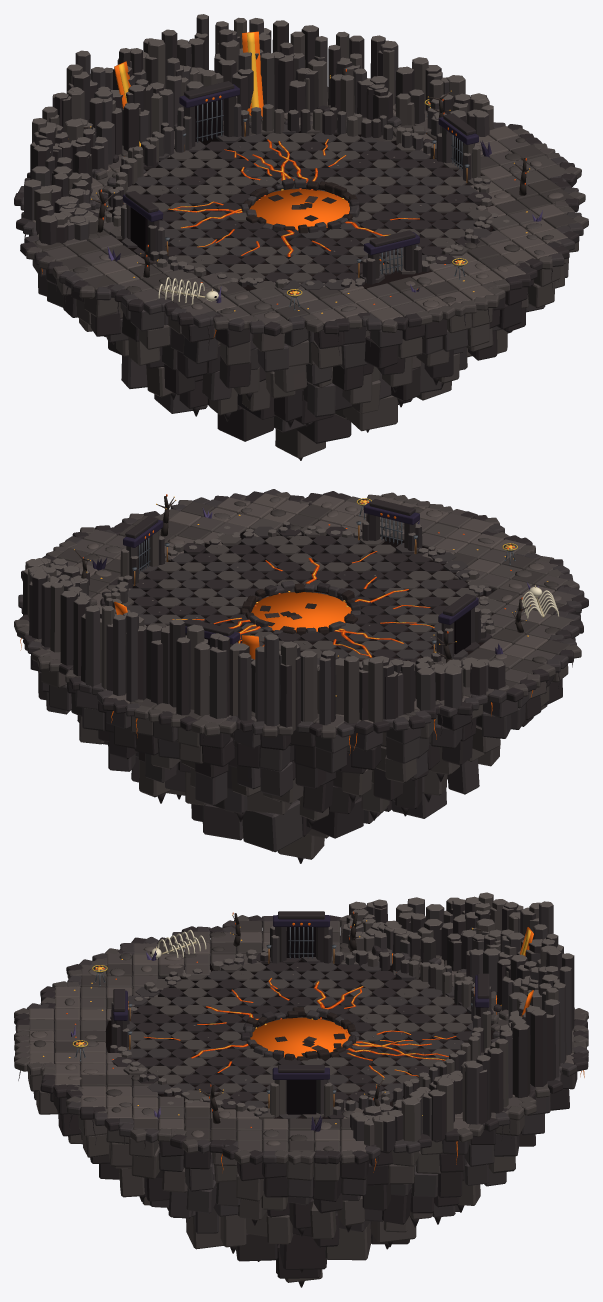
Rendered from arene-volcan.glb.
The picture shows the model from 3 angles, top to bottom: view 1: azimuth 30°, elevation 25°; view 2: azimuth 150°, elevation 25°; view 3: azimuth 270°, elevation 25°; orthographic projection.
Parts seen in each view (by area): view 1: joint, lave_mer, pierre_fond.089, pierre_fond.180, pierre_fond.172, pierre_fond.167, pierre_fond.102, herse_trou, pierre.137, pierre.039, pierre_fond.034, pierre_fond.066 (+17 smaller); view 2: joint, lave_mer, pierre_fond.109, colonne.176, colonne.190, pierre_fond.152, pierre_fond.076, colonne.327, colonne.262, colonne.232, colonne.227, colonne.322 (+53 smaller); view 3: joint, lave_mer, pierre_fond.287, colonne.193, colonne.279, pierre_fond.283, herse_trou.002, pierre_fond.291, colonne.325, colonne.317, pierre_fond.310, herse_trou.001 (+32 smaller).
Part boxes in pixels (x1=…): joint: x1=106, y1=131, x2=493, y2=290; lave_mer: x1=249, y1=189, x2=349, y2=230; pierre_fond.089: x1=217, y1=408, x2=273, y2=441; pierre_fond.180: x1=343, y1=395, x2=397, y2=431; pierre_fond.172: x1=296, y1=414, x2=351, y2=443; pierre_fond.167: x1=275, y1=429, x2=325, y2=458; pierre_fond.102: x1=307, y1=383, x2=335, y2=417; herse_trou: x1=195, y1=99, x2=223, y2=141; pierre.137: x1=364, y1=336, x2=398, y2=368; pierre.039: x1=183, y1=332, x2=218, y2=363; pierre_fond.034: x1=219, y1=356, x2=251, y2=388; pierre_fond.066: x1=274, y1=364, x2=307, y2=392; joint: x1=131, y1=531, x2=495, y2=661; lave_mer: x1=251, y1=592, x2=351, y2=631; pierre_fond.109: x1=242, y1=800, x2=302, y2=852; colonne.176: x1=264, y1=635, x2=279, y2=726; colonne.190: x1=209, y1=647, x2=227, y2=718; pierre_fond.152: x1=202, y1=804, x2=243, y2=840; pierre_fond.076: x1=306, y1=797, x2=363, y2=838; colonne.327: x1=85, y1=607, x2=99, y2=687; colonne.262: x1=176, y1=638, x2=190, y2=715; colonne.232: x1=194, y1=645, x2=210, y2=716; colonne.227: x1=126, y1=613, x2=138, y2=702; colonne.322: x1=113, y1=616, x2=126, y2=695; joint: x1=105, y1=960, x2=494, y2=1120; lave_mer: x1=250, y1=1017, x2=350, y2=1057; pierre_fond.287: x1=279, y1=1234, x2=326, y2=1269; colonne.193: x1=513, y1=1024, x2=530, y2=1097; colonne.279: x1=530, y1=1010, x2=546, y2=1086; pierre_fond.283: x1=325, y1=1222, x2=371, y2=1260; herse_trou.002: x1=286, y1=1080, x2=316, y2=1114; pierre_fond.291: x1=236, y1=1233, x2=277, y2=1261; colonne.325: x1=464, y1=1061, x2=483, y2=1124; colonne.317: x1=488, y1=1048, x2=503, y2=1113; pierre_fond.310: x1=220, y1=1214, x2=246, y2=1247; herse_trou.001: x1=286, y1=927, x2=315, y2=957.
Size of the model in its own units: 44.21 by 28.64 by 44.22.
